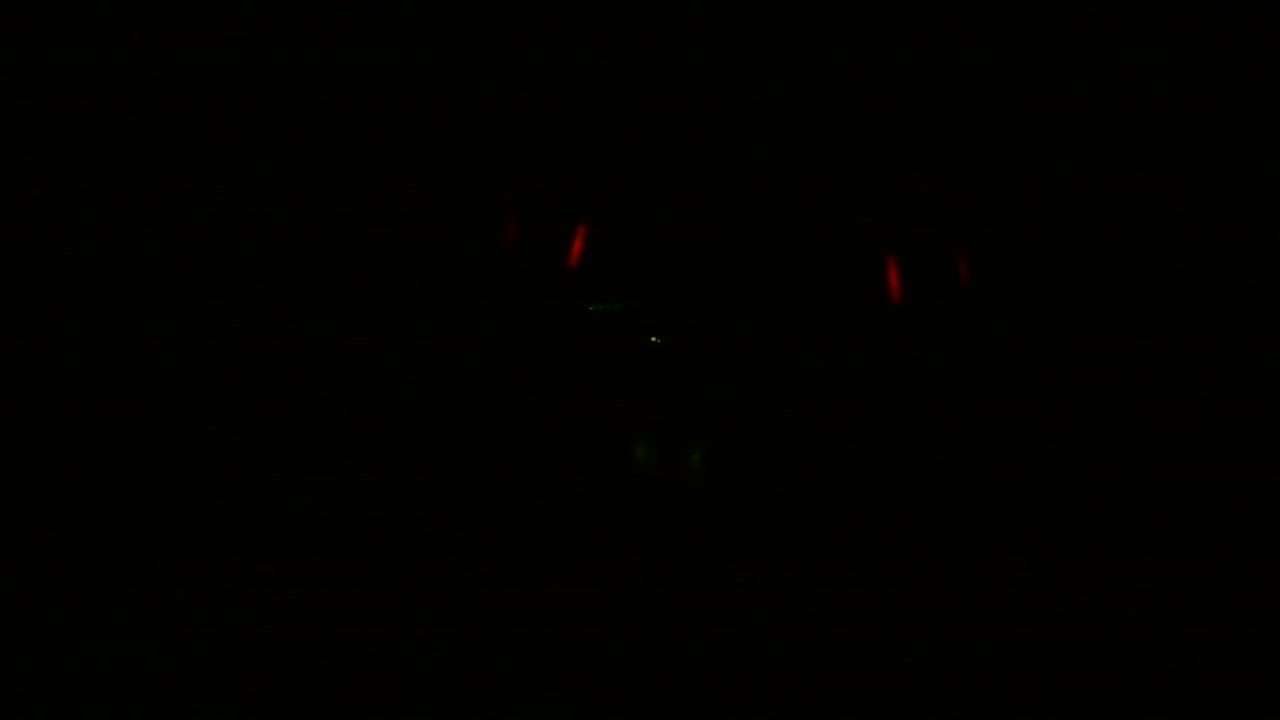pair1: (882, 246, 949, 299)
